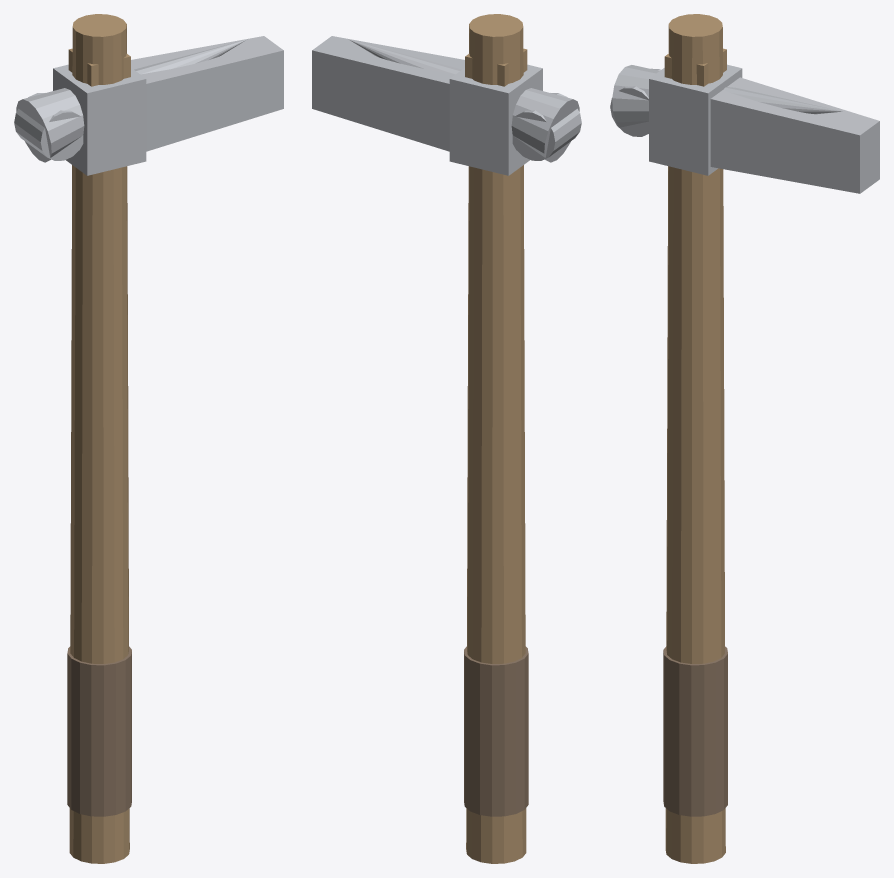
Rendered from toReplace_pickaxe.glb.
The picture shows the model from 3 angles, left to right: view 1: azimuth 30°, elevation 25°; view 2: azimuth 150°, elevation 25°; view 3: azimuth 330°, elevation 25°; orthographic projection.
Visible parts, largest first — view 1: Handle, Blade, GripWrap, HeadHub, PickSpike, PickBase, HandleCap; view 2: Handle, Blade, GripWrap, HeadHub, PickSpike, PickBase, HandleCap; view 3: Handle, Blade, GripWrap, HeadHub, PickSpike, PickBase, HandleCap.
Boxes of the visible parts, bbox=[...] form: Handle: bbox=[69, 14, 129, 863]; Blade: bbox=[131, 36, 283, 151]; GripWrap: bbox=[67, 646, 131, 816]; HeadHub: bbox=[53, 64, 146, 175]; PickSpike: bbox=[16, 39, 246, 162]; PickBase: bbox=[14, 93, 83, 160]; HandleCap: bbox=[68, 48, 130, 86]; Handle: bbox=[466, 14, 526, 863]; Blade: bbox=[312, 36, 464, 151]; GripWrap: bbox=[464, 646, 528, 816]; HeadHub: bbox=[449, 64, 542, 175]; PickSpike: bbox=[349, 39, 579, 162]; PickBase: bbox=[512, 93, 581, 160]; HandleCap: bbox=[465, 48, 527, 86]; Handle: bbox=[665, 14, 725, 863]; Blade: bbox=[710, 77, 879, 193]; GripWrap: bbox=[663, 646, 727, 816]; HeadHub: bbox=[649, 64, 742, 175]; PickSpike: bbox=[612, 65, 842, 127]; PickBase: bbox=[610, 68, 660, 136]; HandleCap: bbox=[664, 48, 726, 86].
Size of the model in its own units: 0.375 by 1.2 by 0.09.
